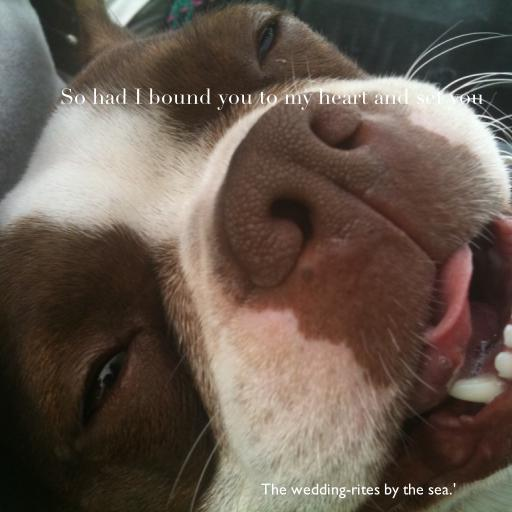Didot: (60, 88, 484, 110)
Gill Sans: (260, 483, 456, 499)
